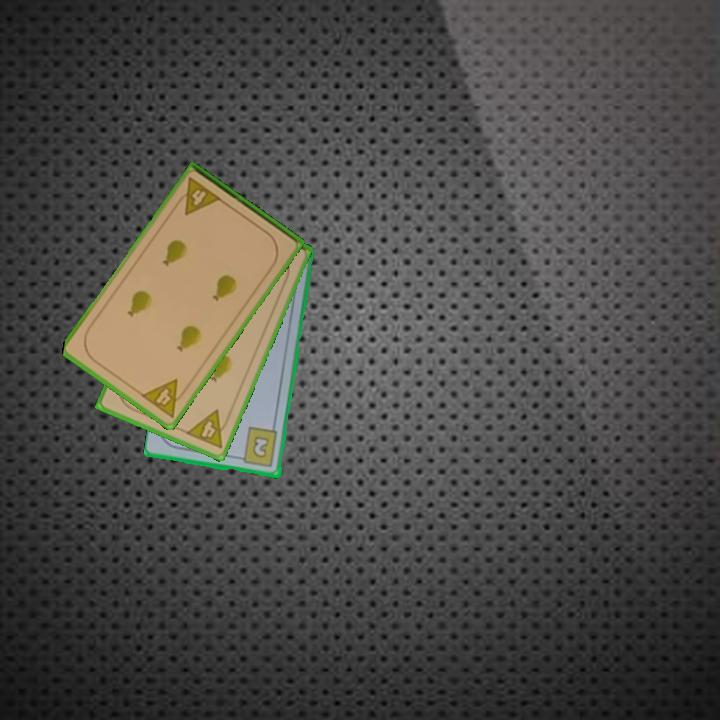2b: (234, 424, 281, 470)
4p: (137, 375, 191, 421), (182, 406, 234, 451), (171, 174, 224, 218)
